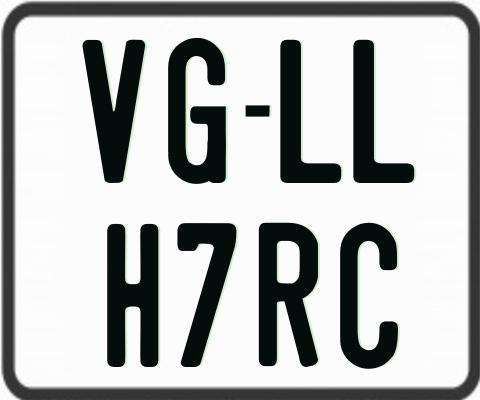7: (175, 221, 234, 371)
C: (337, 222, 401, 369)
G: (167, 37, 230, 185)
H: (104, 224, 156, 370)
L: (350, 40, 417, 183), (280, 37, 346, 182)
R: (257, 222, 321, 371)
V: (80, 37, 144, 186)
